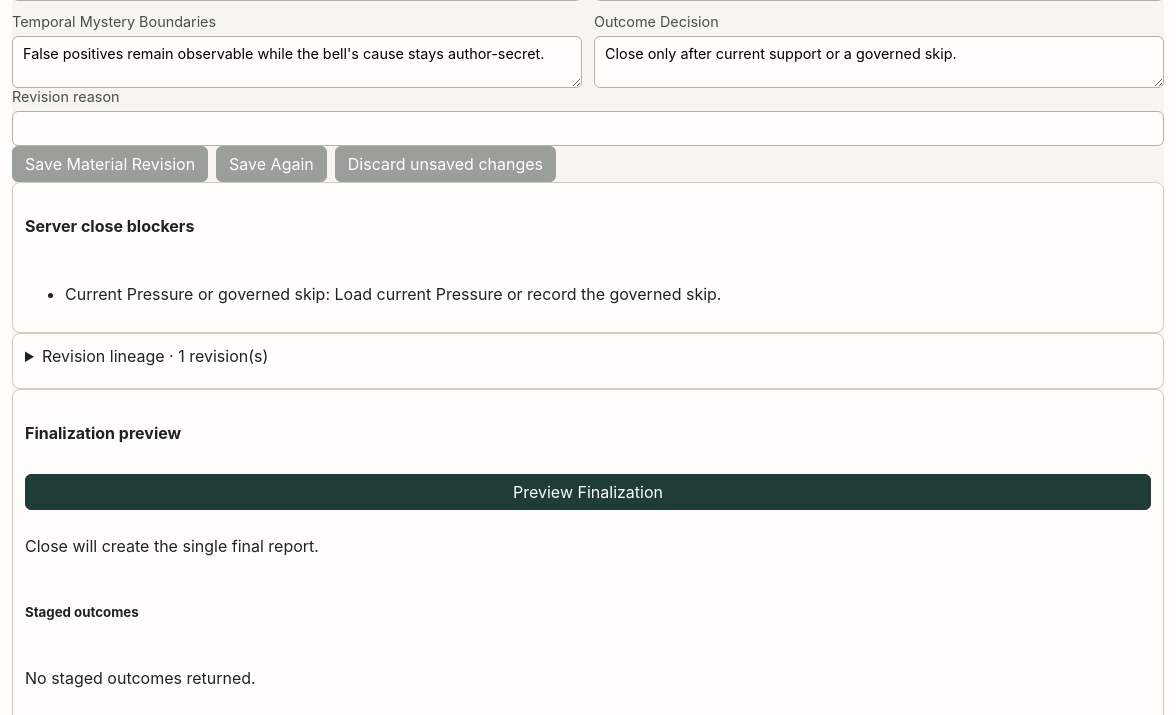
Test case: TemporalRevisionWorkspace › renders server lineage, blocker, currentness, report doctrine, and keyboard-operable finalization controls
(page scrolled)
Expected: the list item "Current Pressure or governed skip" is shown, [65,284,325,304]
Step 1. Click the heading "Revision lineage · 1 revision(s)" → coordinates (155, 356), box [42,346,268,366]
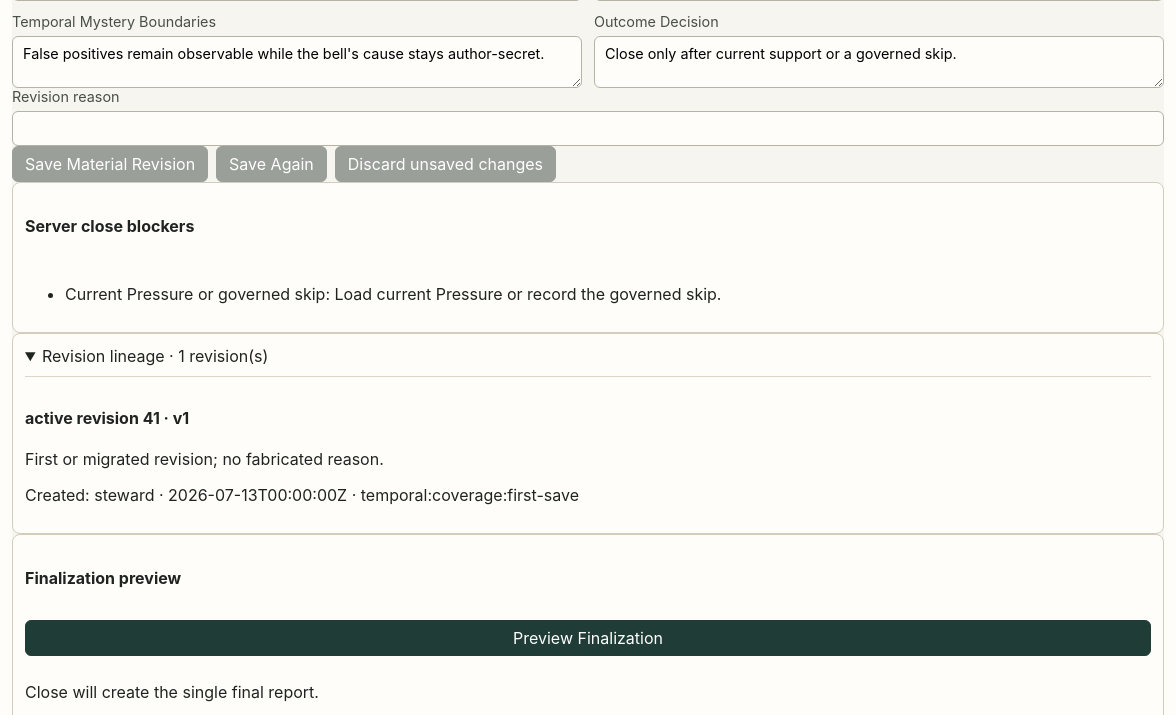
Expected: the text "temporal:coverage:first-save" is shown, [361,485,579,505]
